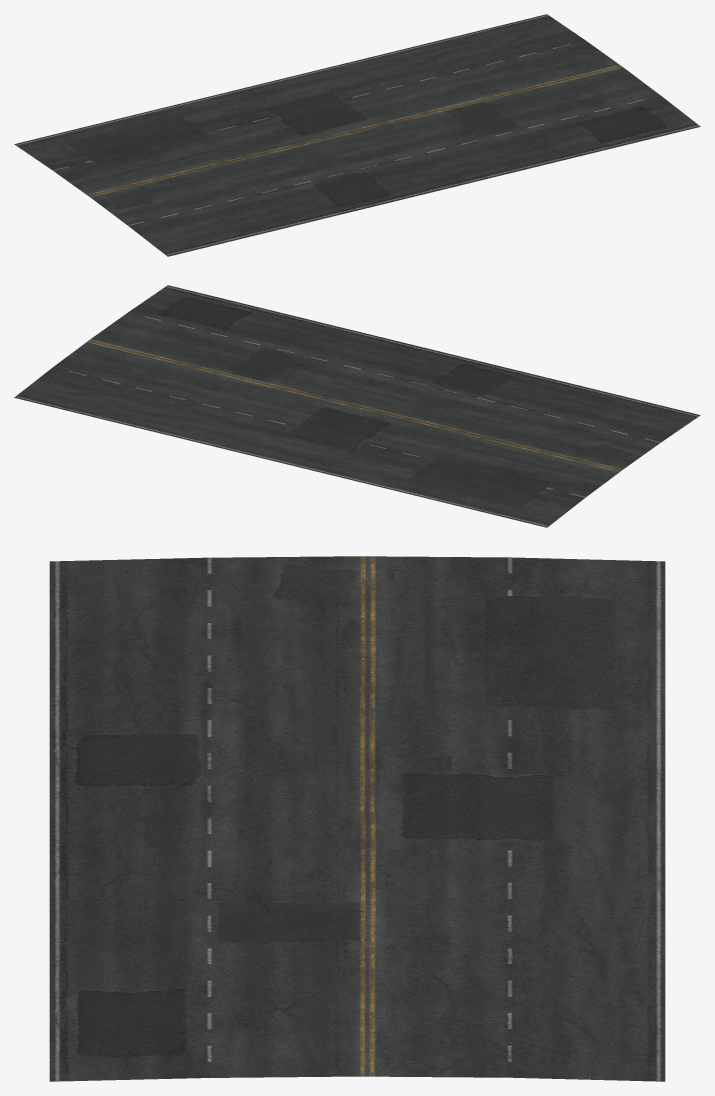
The model's file is Road-section-4-lane-improved.fbx.
The picture shows the model from 3 angles, top to bottom: view 1: azimuth 30°, elevation 25°; view 2: azimuth 150°, elevation 25°; view 3: azimuth 270°, elevation 25°; orthographic projection. The views are drawn at different scales.
Visible parts, largest first — view 1: Plane; view 2: Plane; view 3: Plane.
Part boxes in pixels (<box>): Plane: <box>14,14,700,256</box>; Plane: <box>14,285,700,527</box>; Plane: <box>49,556,665,1081</box>.
Size of the model in its own units: 799 by 3.7 by 399.
1 material, 1 textured.
